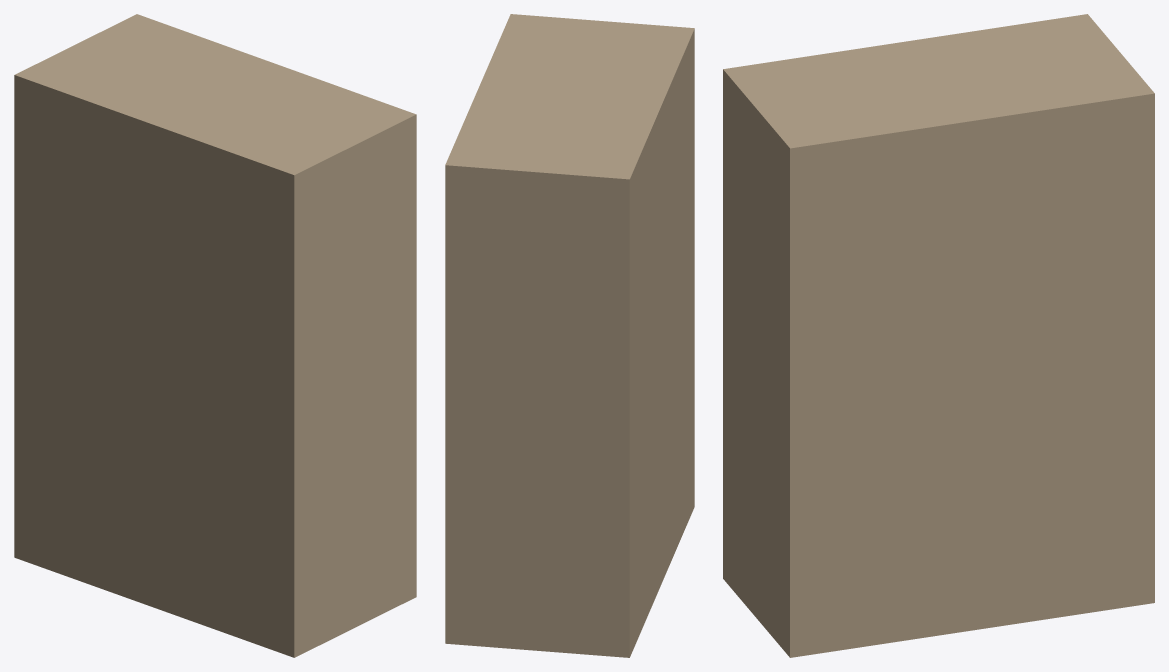
Rendered from bld_107639479.dae.
The picture shows the model from 3 angles, left to right: view 1: azimuth 30°, elevation 25°; view 2: azimuth 150°, elevation 25°; view 3: azimuth 270°, elevation 25°; orthographic projection. The views are drawn at different scales.
Parts seen in each view (by area): view 1: bld_107639479; view 2: bld_107639479; view 3: bld_107639479.
Boxes of the visible parts, box(x1,y1,x2,y2) form: bld_107639479: box(14, 14, 416, 657); bld_107639479: box(445, 14, 694, 657); bld_107639479: box(723, 14, 1154, 657).
Bounding box in the file's own units: 4.53 × 6.15 × 8.
